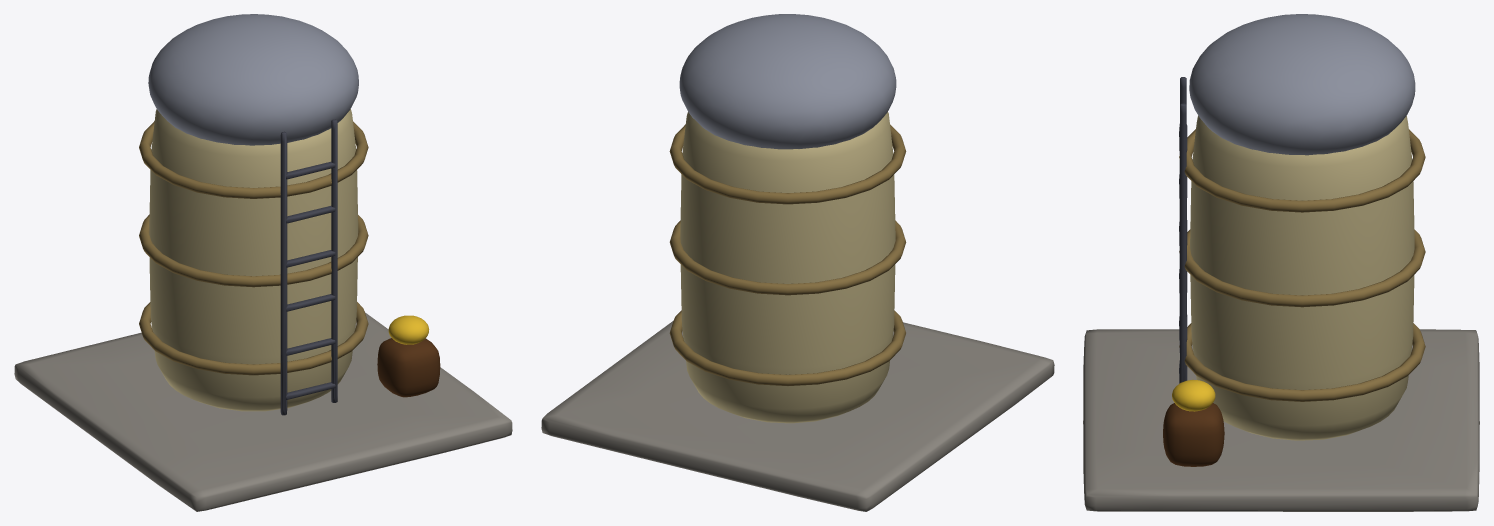
The model's file is Maissilo.fbx.
3 renders of one model, left to right at view 1: azimuth 30°, elevation 25°; view 2: azimuth 150°, elevation 25°; view 3: azimuth 270°, elevation 25°, orthographic. The views are drawn at different scales.
Visible parts, largest first — view 1: Maissilo; view 2: Maissilo; view 3: Maissilo.
Part boxes in pixels (x1,y1,x2,y2): Maissilo: (14,14,512,511); Maissilo: (541,14,1054,511); Maissilo: (1083,14,1479,511).
Size of the model in its own units: 1.9 by 2.11 by 1.9.
